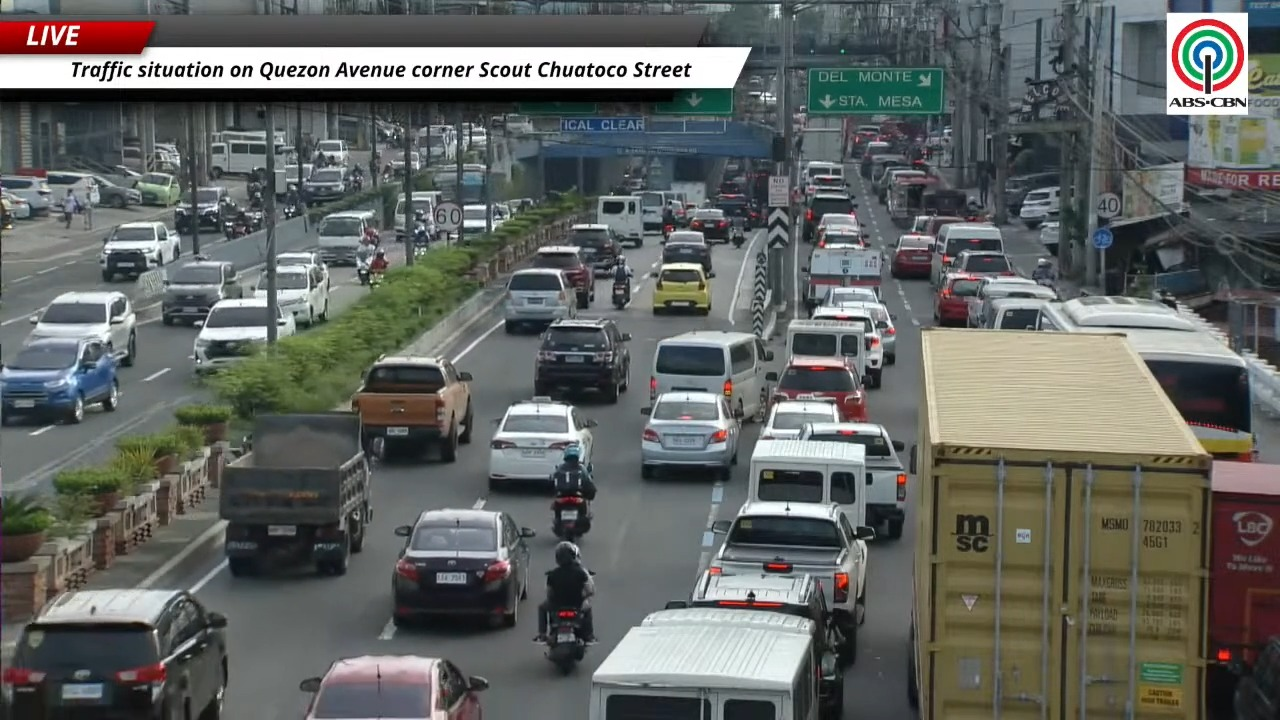bus: (1039, 296, 1255, 461), (210, 139, 266, 177), (210, 130, 266, 142)
car: (3, 588, 228, 719), (643, 572, 843, 719), (393, 508, 534, 626), (799, 423, 907, 538), (299, 655, 487, 719), (0, 338, 118, 423), (488, 396, 595, 488), (641, 391, 741, 480), (26, 291, 136, 366), (534, 318, 630, 402), (766, 356, 867, 421), (811, 302, 886, 387), (192, 296, 267, 374), (161, 259, 244, 324), (98, 221, 179, 281), (503, 268, 577, 333), (967, 276, 1056, 326), (530, 245, 594, 308), (760, 394, 840, 439), (840, 300, 896, 364), (276, 265, 329, 326), (652, 263, 711, 315), (174, 186, 237, 232), (566, 224, 621, 274), (803, 192, 856, 242), (933, 273, 981, 326), (1003, 171, 1059, 214), (979, 297, 1053, 329), (873, 165, 927, 204), (0, 175, 52, 215), (890, 232, 933, 278), (277, 251, 330, 288), (661, 240, 713, 277), (44, 170, 93, 209), (711, 192, 759, 229), (1018, 186, 1059, 229), (949, 250, 1016, 276), (301, 167, 346, 203), (92, 175, 141, 208), (134, 172, 181, 206), (688, 209, 730, 242), (462, 204, 503, 236), (816, 213, 860, 240), (821, 286, 879, 306), (817, 225, 868, 247), (922, 215, 966, 239), (805, 175, 847, 195), (0, 192, 31, 219), (316, 140, 348, 166), (1038, 221, 1059, 256), (662, 230, 706, 244), (908, 214, 933, 233)
motorcycle: (545, 598, 589, 674), (545, 608, 588, 675), (551, 495, 590, 541), (224, 219, 251, 239), (730, 218, 746, 249), (612, 282, 630, 309), (356, 258, 370, 285), (282, 203, 299, 219), (369, 270, 384, 288), (350, 174, 363, 191), (662, 224, 674, 242)
truck: (907, 329, 1211, 719), (708, 501, 874, 663), (219, 412, 371, 576), (1206, 461, 1279, 719), (351, 355, 473, 462), (801, 243, 882, 313), (800, 116, 844, 164), (670, 181, 707, 207)
